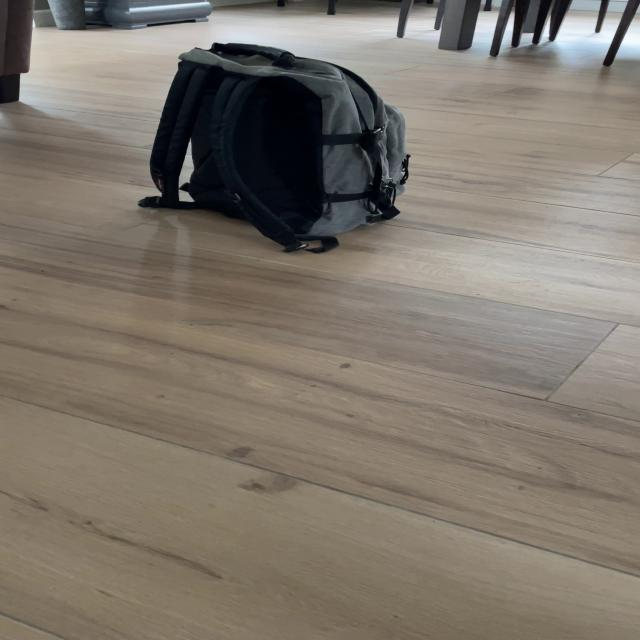backpack: (134, 33, 433, 260)
